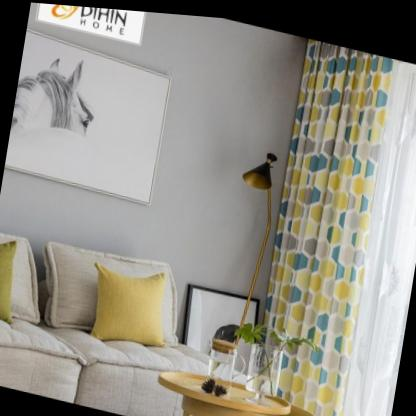Curtains: (251, 29, 416, 416)
